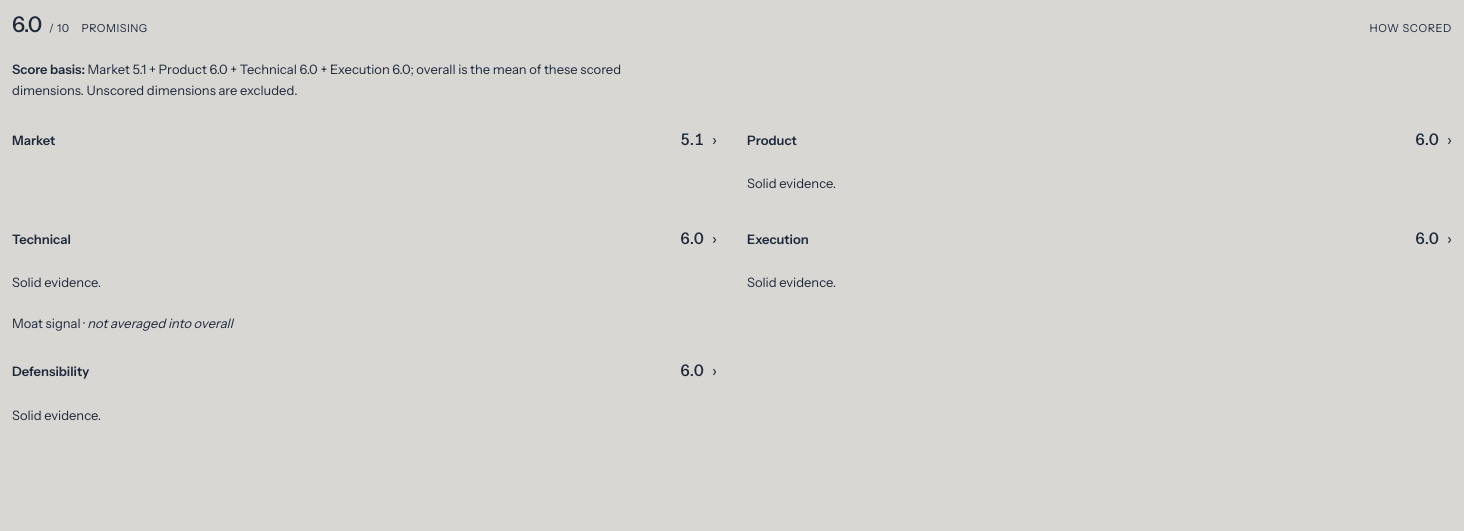
Test case: AssessmentScorecard persona-divergence flag › flags a dimension whose personas materially diverged
Click the button "Market 5.1 ›" at (34, 140), box [12,114,717,166]
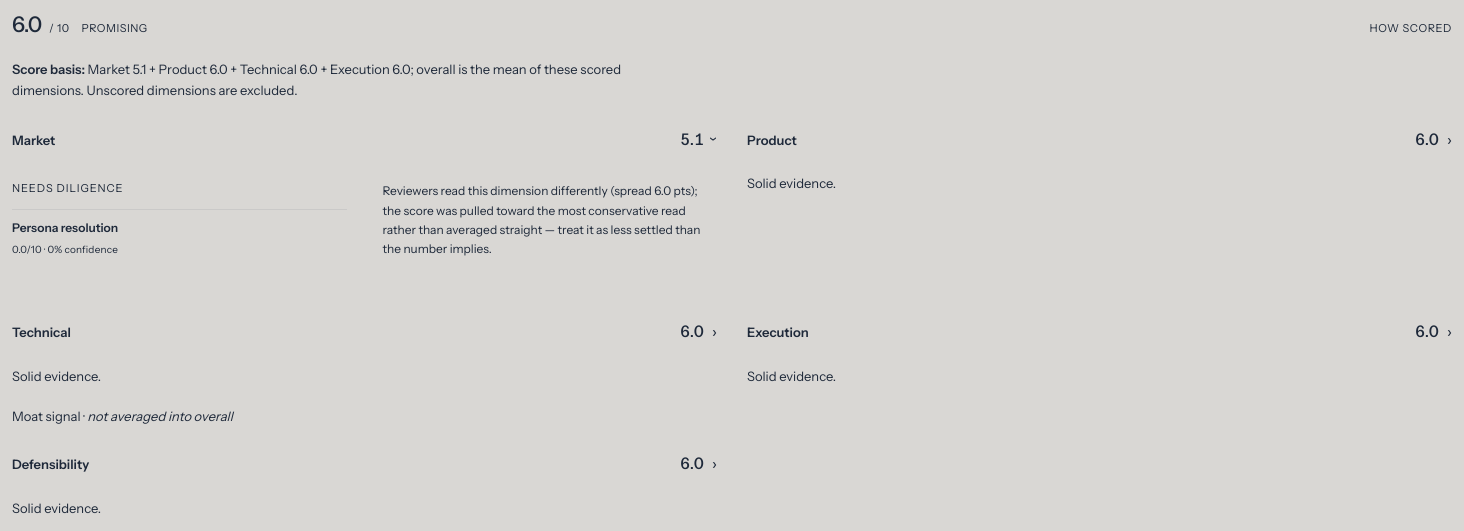
Result: the text "Reviewers read this dimension differently" is shown at [382,184,608,198]
